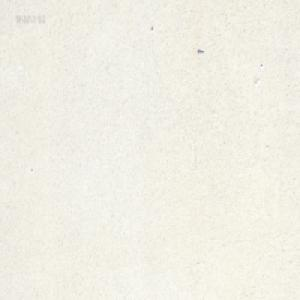Nail: (197, 48, 203, 53)
